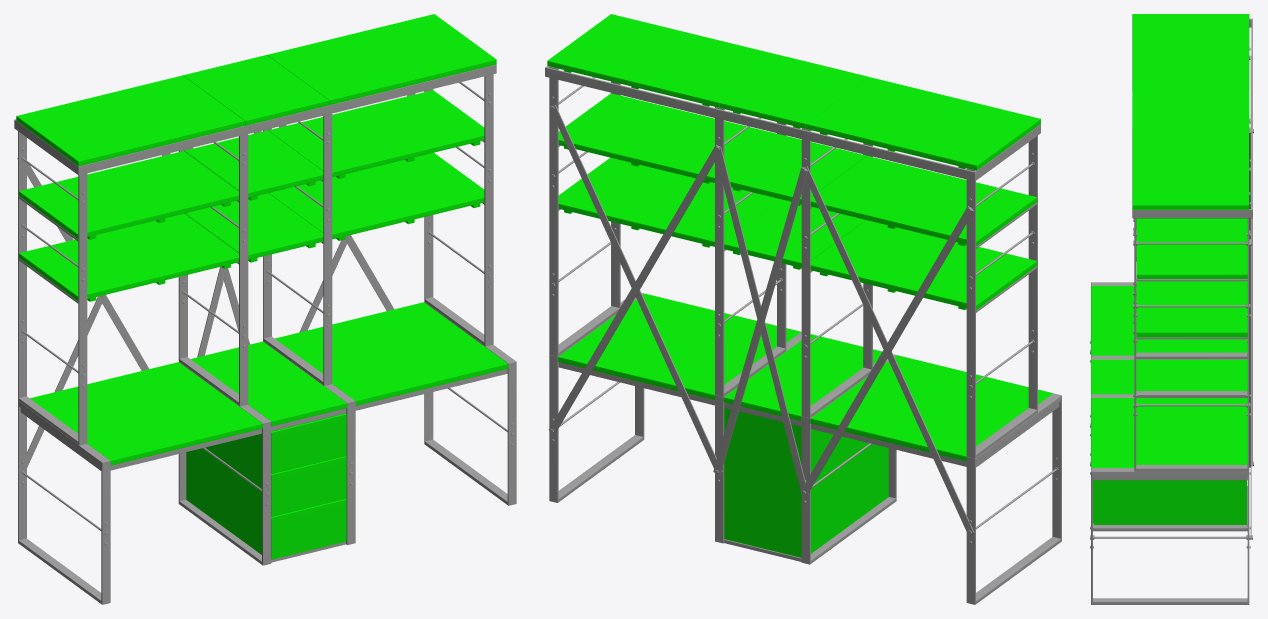
The model's file is BookShelf04.fbx.
The picture shows the model from 3 angles, left to right: view 1: azimuth 30°, elevation 25°; view 2: azimuth 150°, elevation 25°; view 3: azimuth 270°, elevation 25°; orthographic projection. The views are drawn at different scales.
Visible parts, largest first — view 1: 1 (×2); view 2: 1 (×2); view 3: 1 (×2).
Boxes of the visible parts, box(x1,y1,x2,y2) form: 1 (×2): box(14, 14, 516, 604); 1 (×2): box(545, 14, 1061, 604); 1 (×2): box(1090, 14, 1253, 604).
Bounding box in the file's own units: 2.73 × 2.67 × 0.9905.
